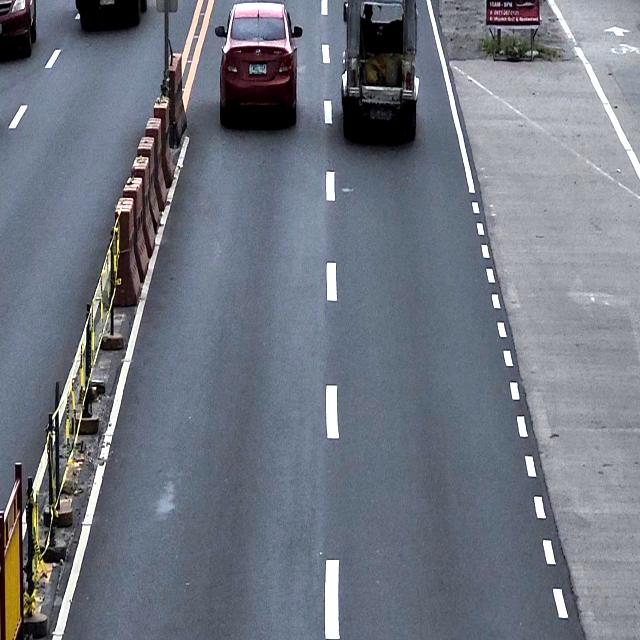Car: (341, 0, 419, 141), (215, 0, 302, 126), (0, 0, 37, 57)
License-Plate: (369, 107, 393, 122), (248, 60, 267, 76)
